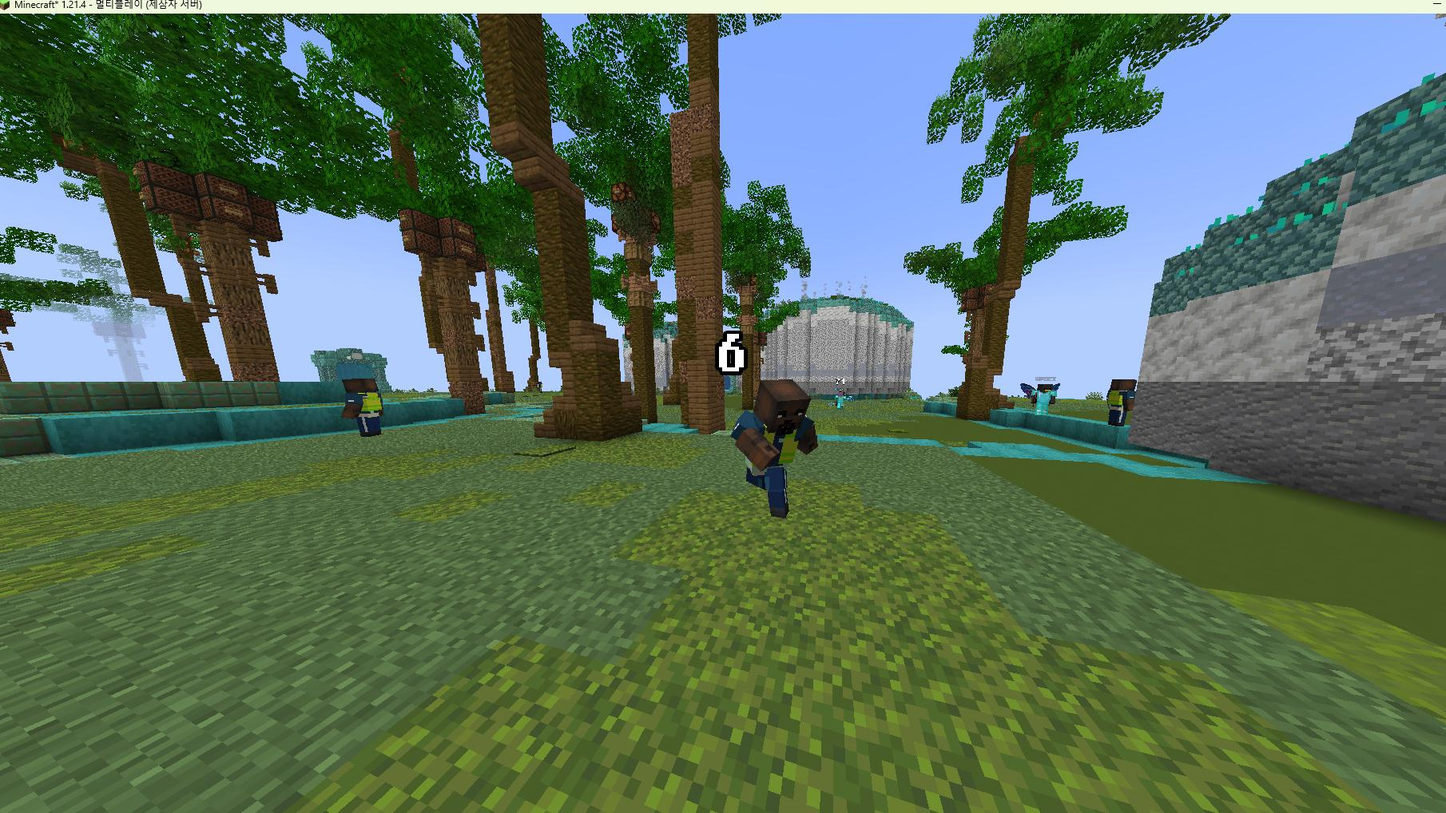Guardian: (732, 379, 816, 517), (336, 364, 383, 437), (1106, 379, 1136, 429)
